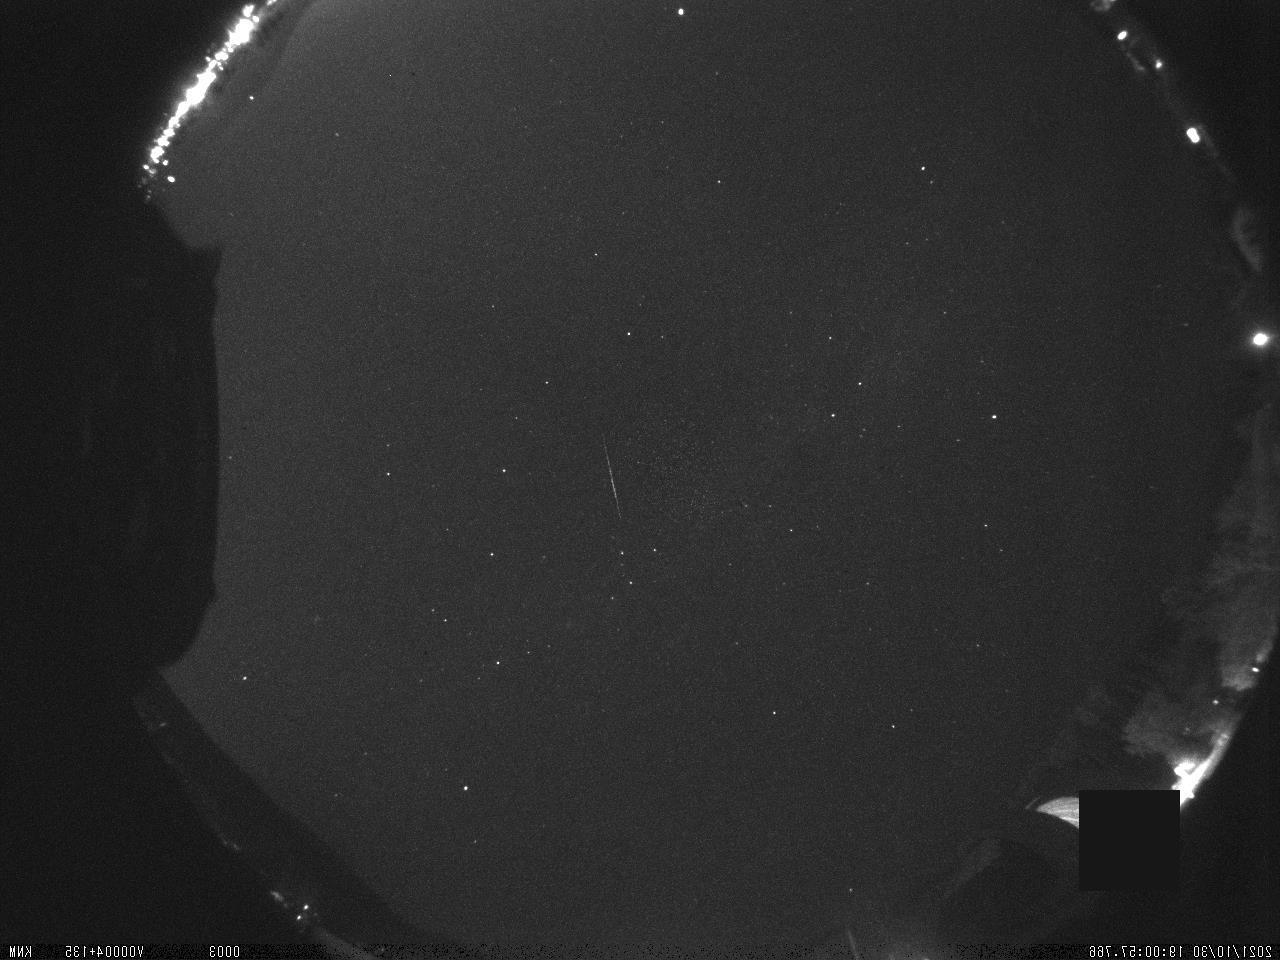meteor: (582, 416, 648, 544)
